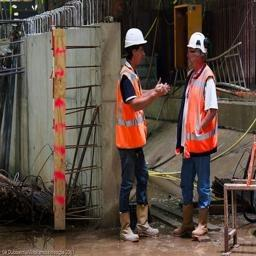hat: (118, 20, 154, 60), (182, 28, 218, 63)
vest: (176, 67, 236, 164), (108, 64, 156, 164)
